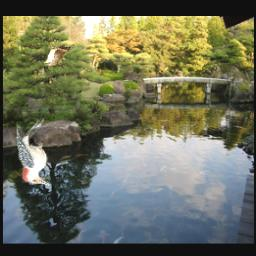Cuckoo: (43, 44, 76, 66)
Woodpecker: (17, 118, 54, 186)
